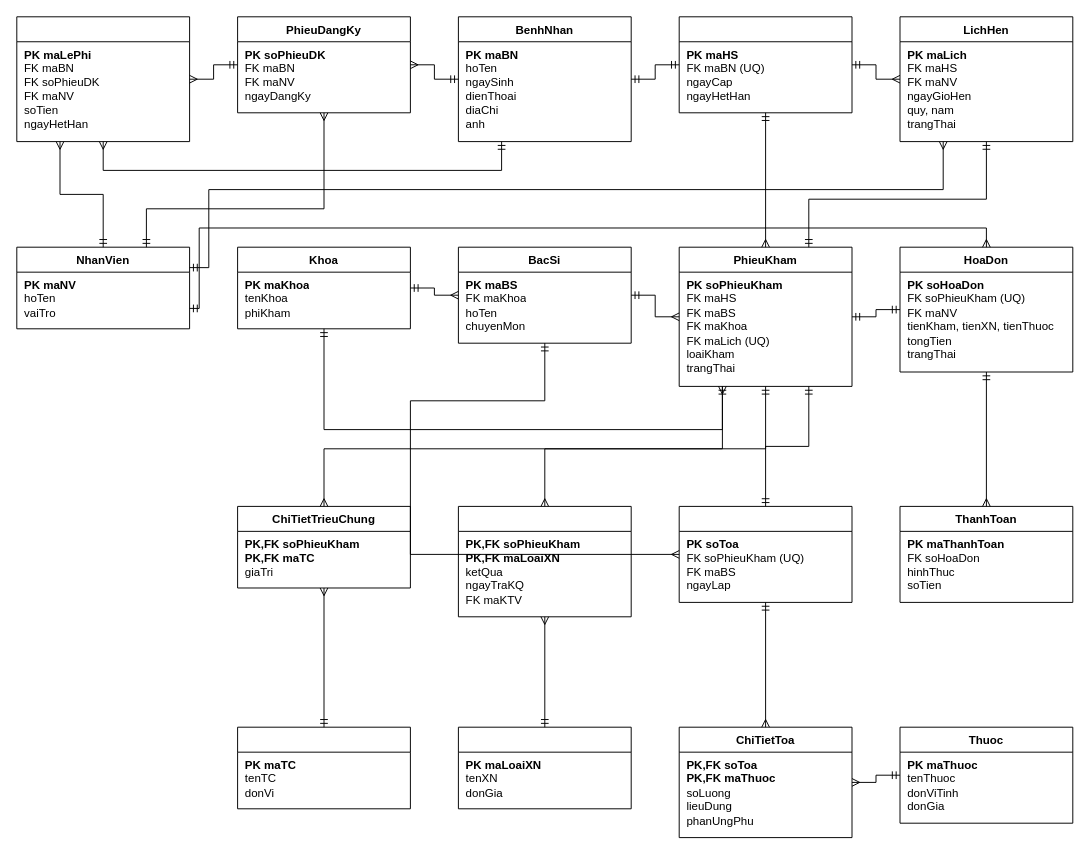
This 1090x857 diagram has some shape labels left out. The box of each missing label's shape, as (x1, y1, x2, y2) in pixels:
ChiTietXetNghiem: (457, 505, 631, 617)
HoSoBenhAn: (678, 16, 852, 113)
LePhiNam: (16, 16, 190, 142)
LoaiXetNghiem: (457, 726, 631, 809)
ToaThuoc: (678, 505, 852, 602)
TrieuChung: (237, 726, 410, 809)
